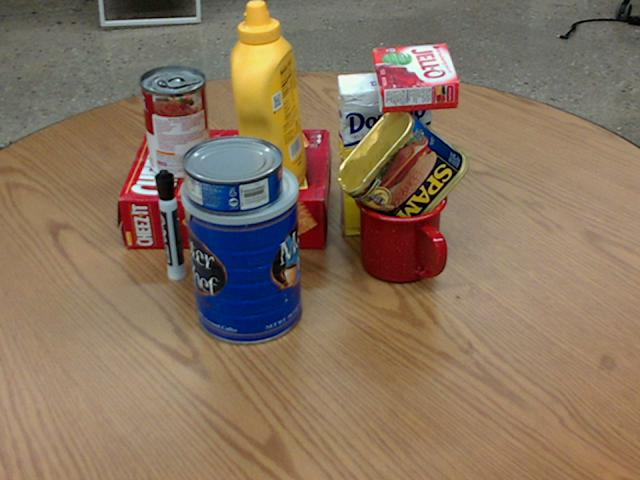cracker_box: (116, 129, 328, 249)
gelatin_box: (373, 44, 458, 111)
large_marker: (155, 170, 186, 281)
master_chef_can: (178, 155, 303, 343)
mug: (356, 173, 450, 284)
mustard_bottle: (230, 0, 306, 199)
potted_meat_can: (335, 105, 468, 235)
sugar_box: (338, 70, 432, 237)
tomato_soup_can: (138, 65, 210, 179)
tuna_fish_can: (181, 134, 282, 213)
